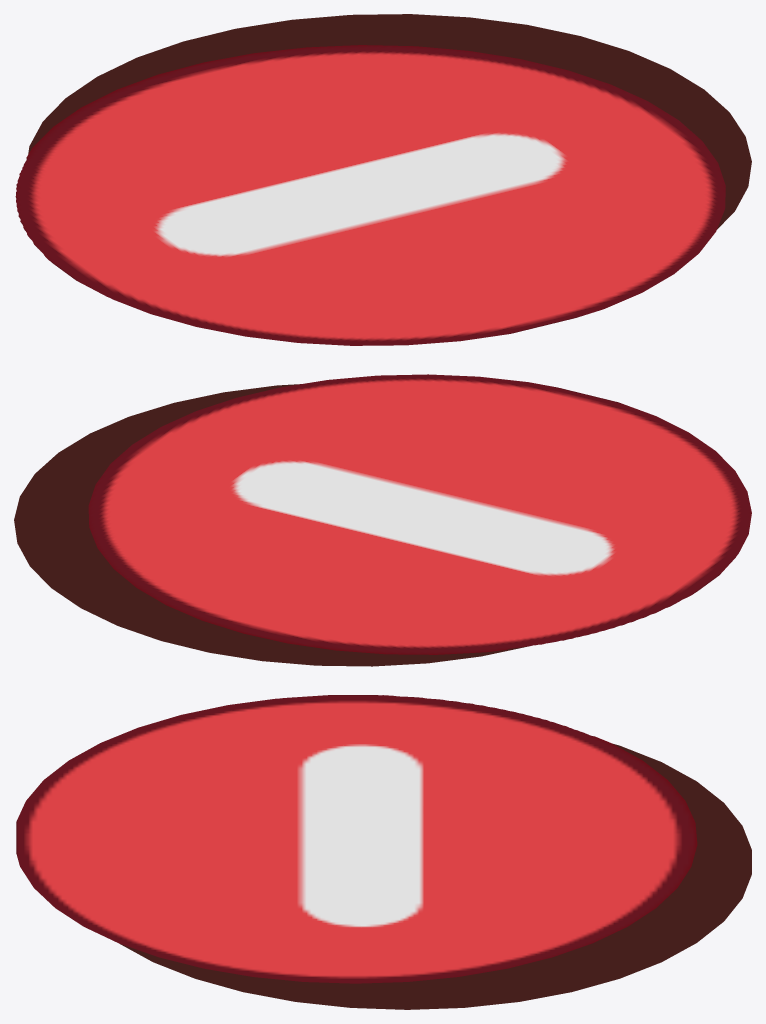
3 views of the same model, one above another, from view 1: azimuth 30°, elevation 25°; view 2: azimuth 150°, elevation 25°; view 3: azimuth 270°, elevation 25° (orthographic). The views are drawn at different scales.
Visible parts, largest first — view 1: polySurface4, polySurface3; view 2: polySurface4, polySurface3; view 3: polySurface4, polySurface3.
Part boxes in pixels (x1,y1,x2,y2): polySurface4: [15, 45, 725, 345]; polySurface3: [28, 14, 751, 229]; polySurface4: [88, 374, 751, 654]; polySurface3: [14, 384, 531, 666]; polySurface4: [16, 695, 697, 983]; polySurface3: [120, 743, 751, 1009].
Size of the model in its own units: 8.78 by 0.0223 by 8.74.
2 materials, 1 textured.
